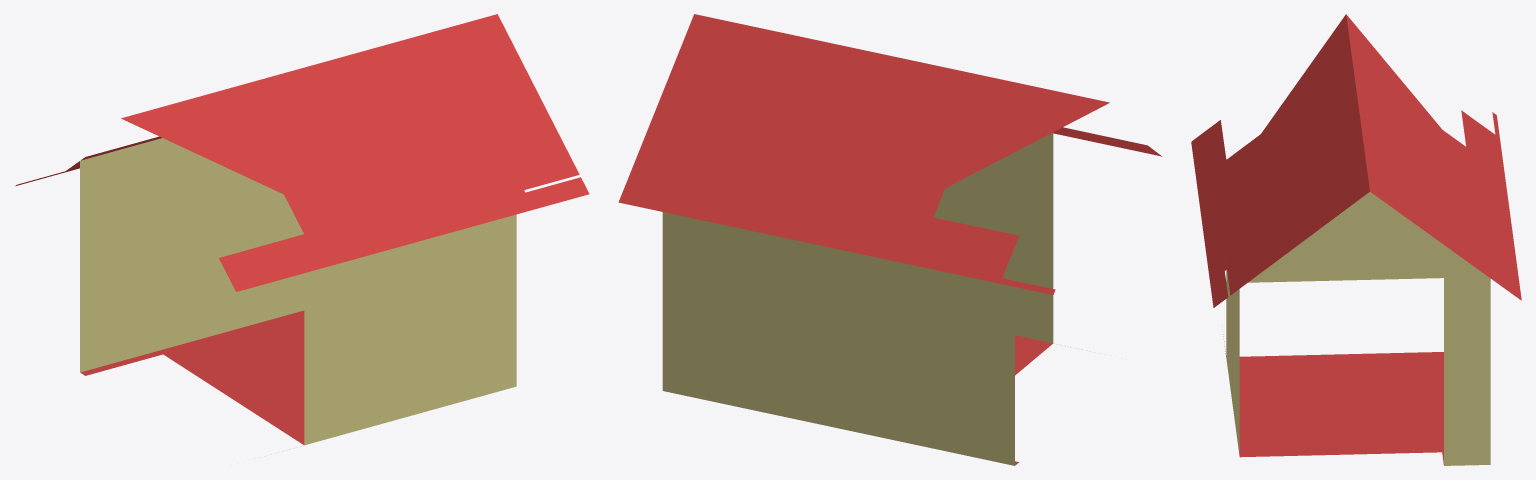
The picture shows the model from 3 angles, left to right: view 1: azimuth 30°, elevation 25°; view 2: azimuth 150°, elevation 25°; view 3: azimuth 270°, elevation 25°; orthographic projection. The views are drawn at different scales.
Bounding box in the file's own units: 15.41 × 11.15 × 10.74.
